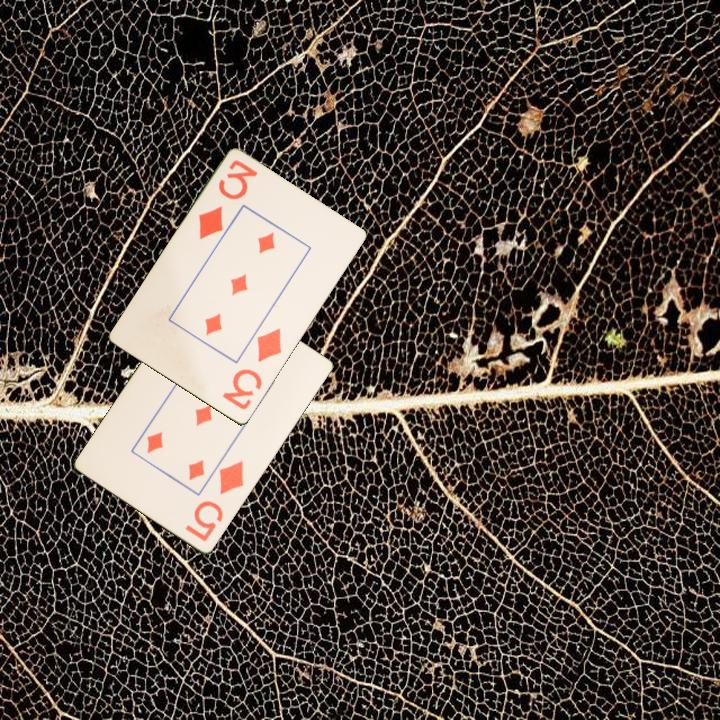3d: (219, 325, 285, 413), (195, 157, 261, 243)
5d: (182, 457, 247, 545)
